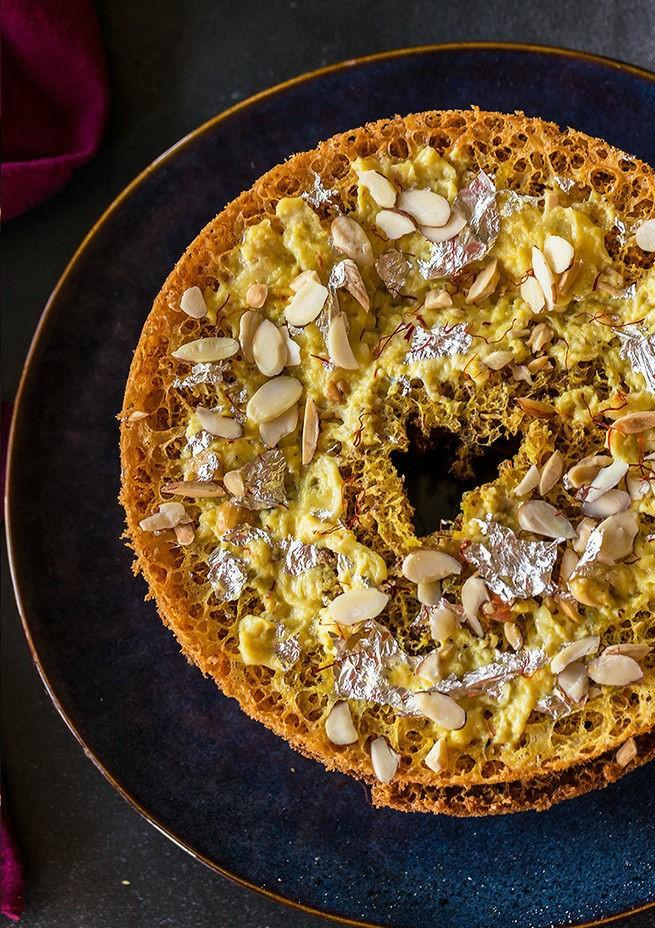Ghevar: (113, 108, 655, 822)
